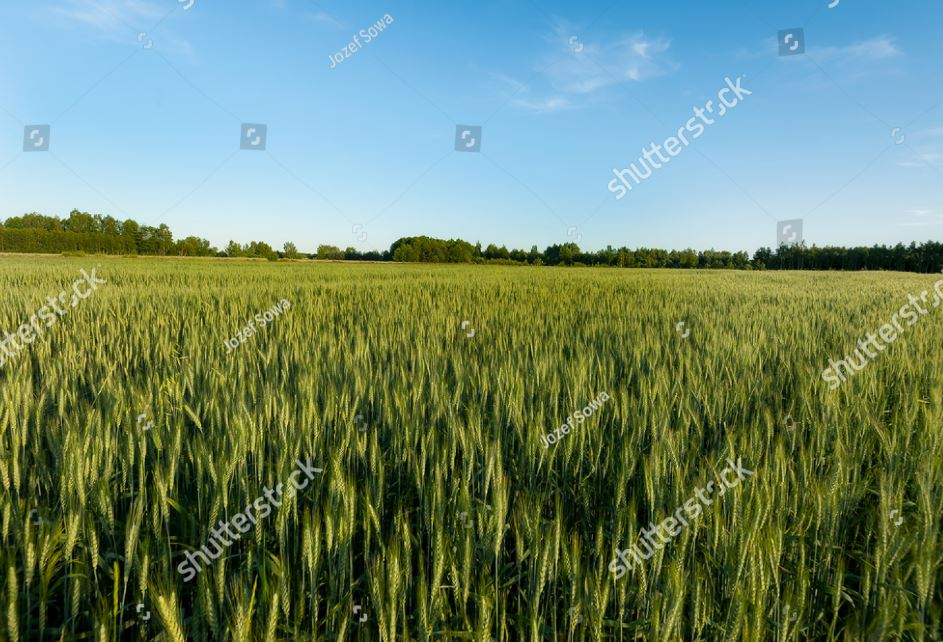Wheat: (32, 316, 819, 624)
